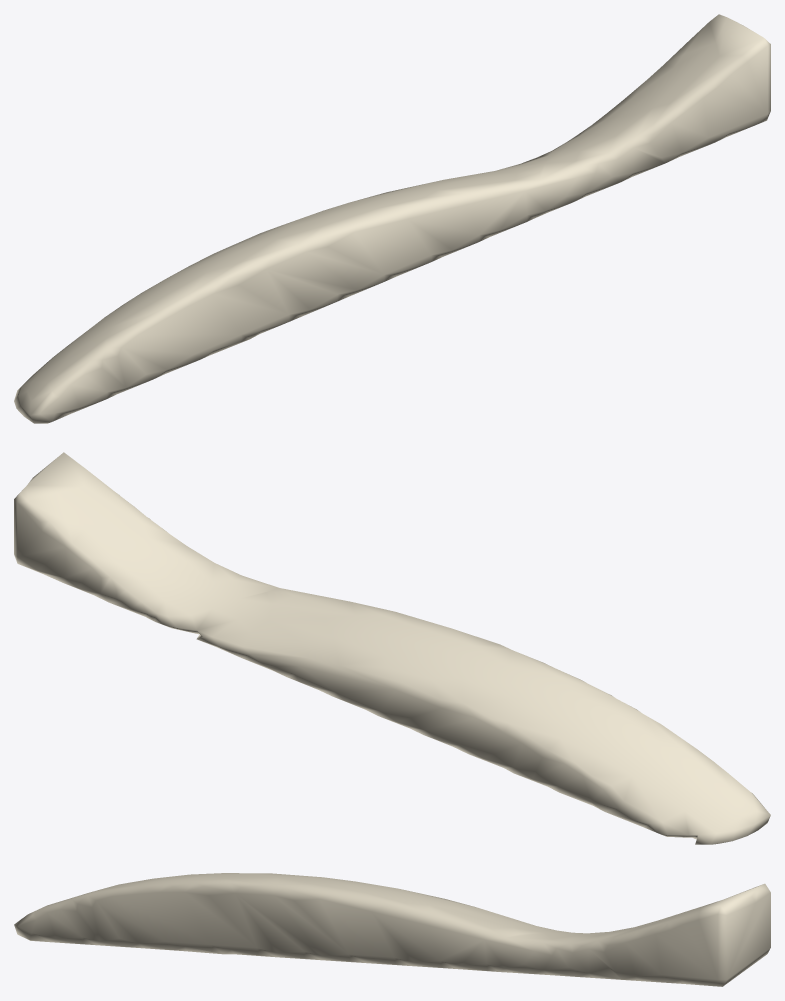
The model's file is nasal_r.glb.
3 renders of one model, top to bottom at view 1: azimuth 30°, elevation 25°; view 2: azimuth 150°, elevation 25°; view 3: azimuth 330°, elevation 25°, orthographic. The views are drawn at different scales.
Parts seen in each view (by area): view 1: geometry_0; view 2: geometry_0; view 3: geometry_0.
Part boxes in pixels (x1,y1,x2,y2): geometry_0: (14, 14, 770, 423); geometry_0: (14, 452, 770, 844); geometry_0: (14, 873, 770, 986).
Size of the model in its own units: 0.3738 by 0.1017 by 0.0452.
